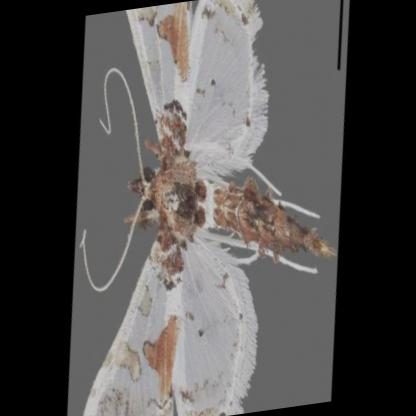leucinodes: (88, 0, 329, 416)
